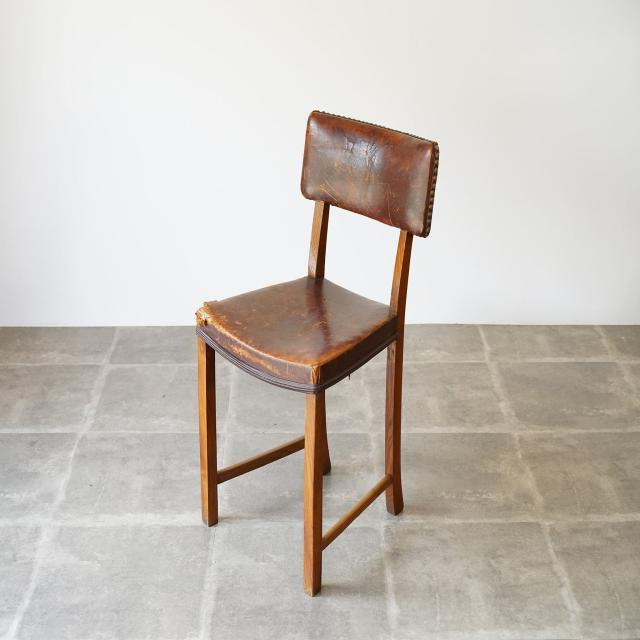chair vintage: (185, 106, 442, 600)
